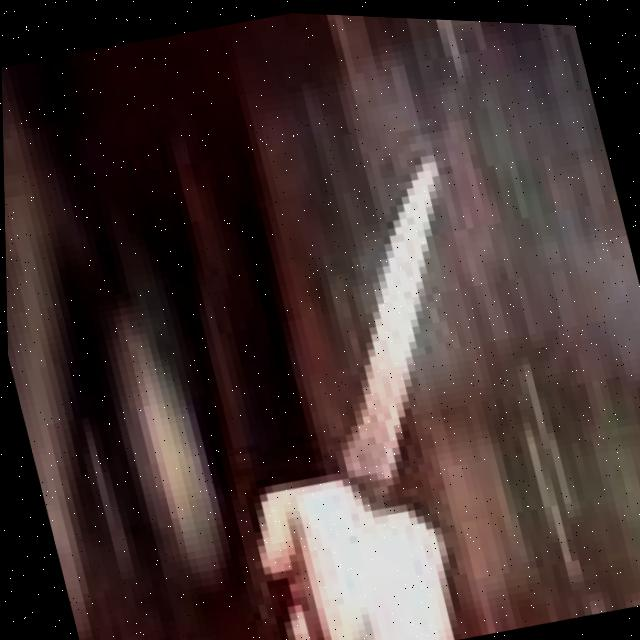knife: (271, 144, 515, 503)
